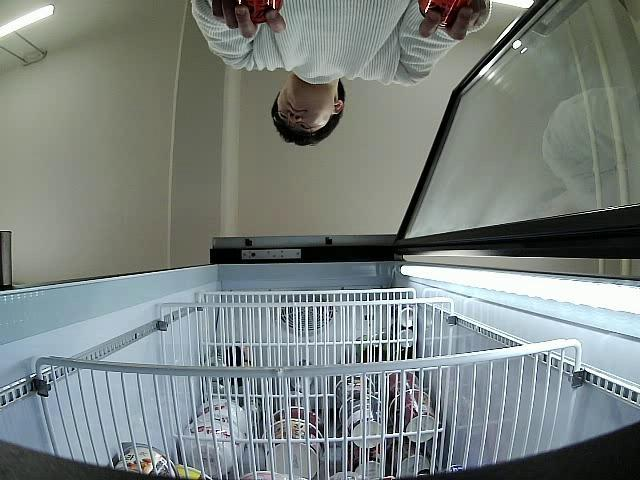11_cocaColaZero: (418, 0, 478, 26), (222, 0, 282, 24)
